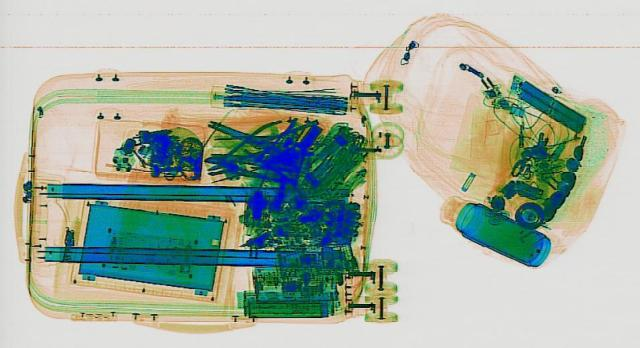Pliers: (191, 117, 303, 175)
